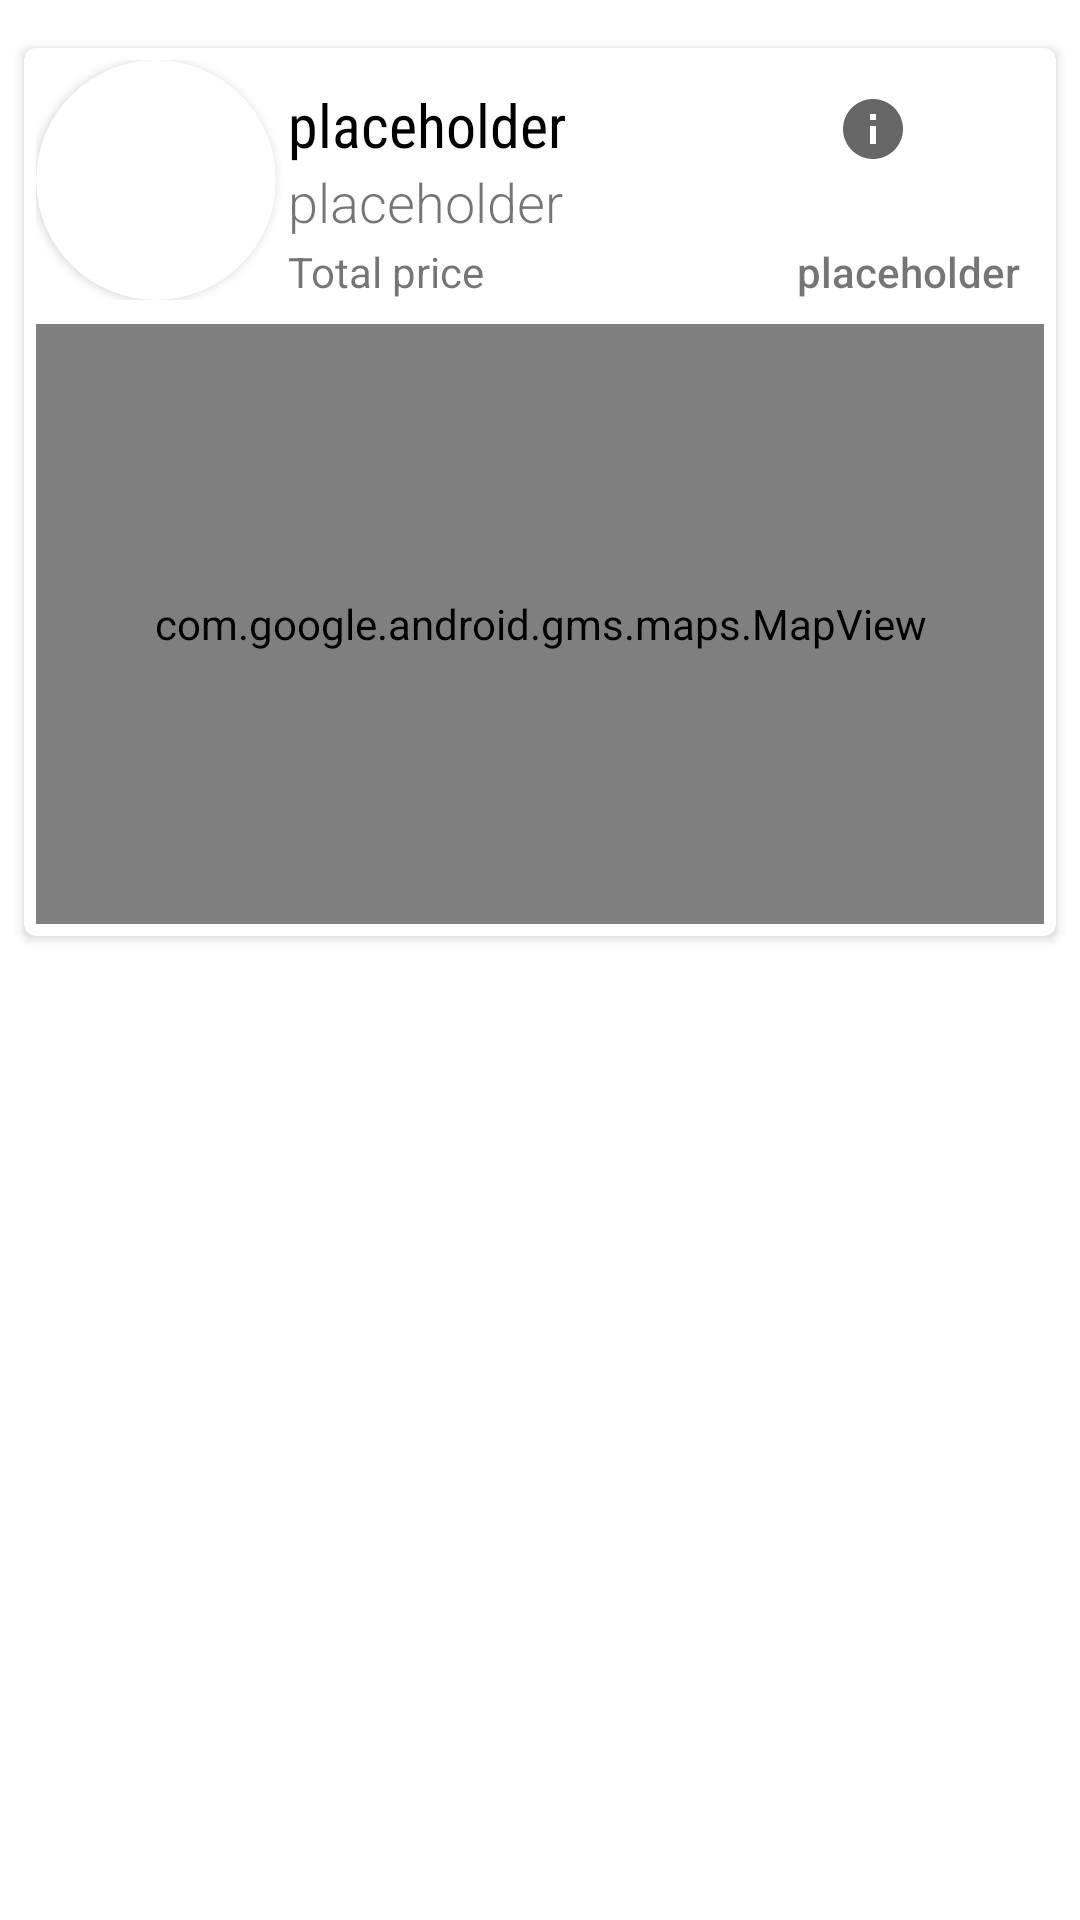

Named icons in this screenshot (1080×1920) and their bounding boxes, rect(x1, y1, x2, y2):
clinic info button image: rect(843, 99, 903, 159)
